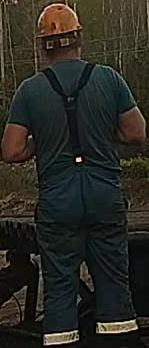helmet: (34, 3, 83, 38)
